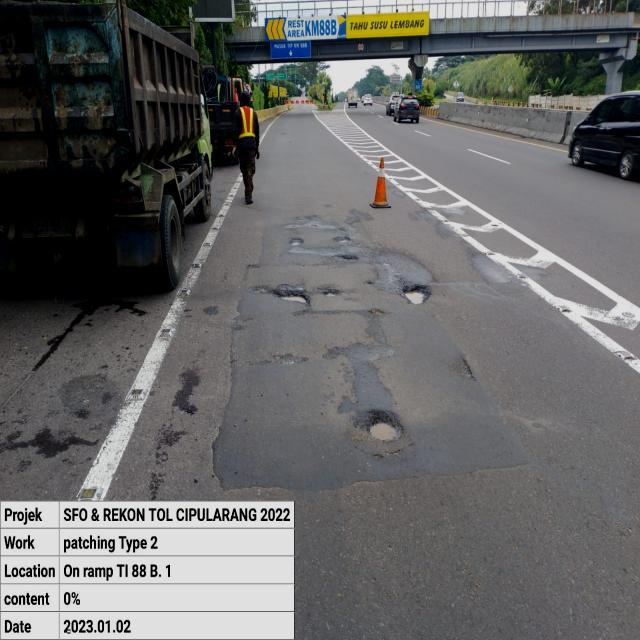Buraco: (358, 408, 408, 443), (267, 288, 313, 308), (398, 282, 434, 307), (329, 253, 361, 265), (316, 286, 343, 298), (286, 236, 306, 248), (331, 234, 354, 244)
